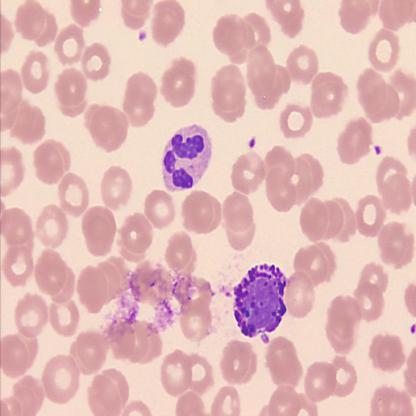Basophil: (230, 262, 293, 342)
